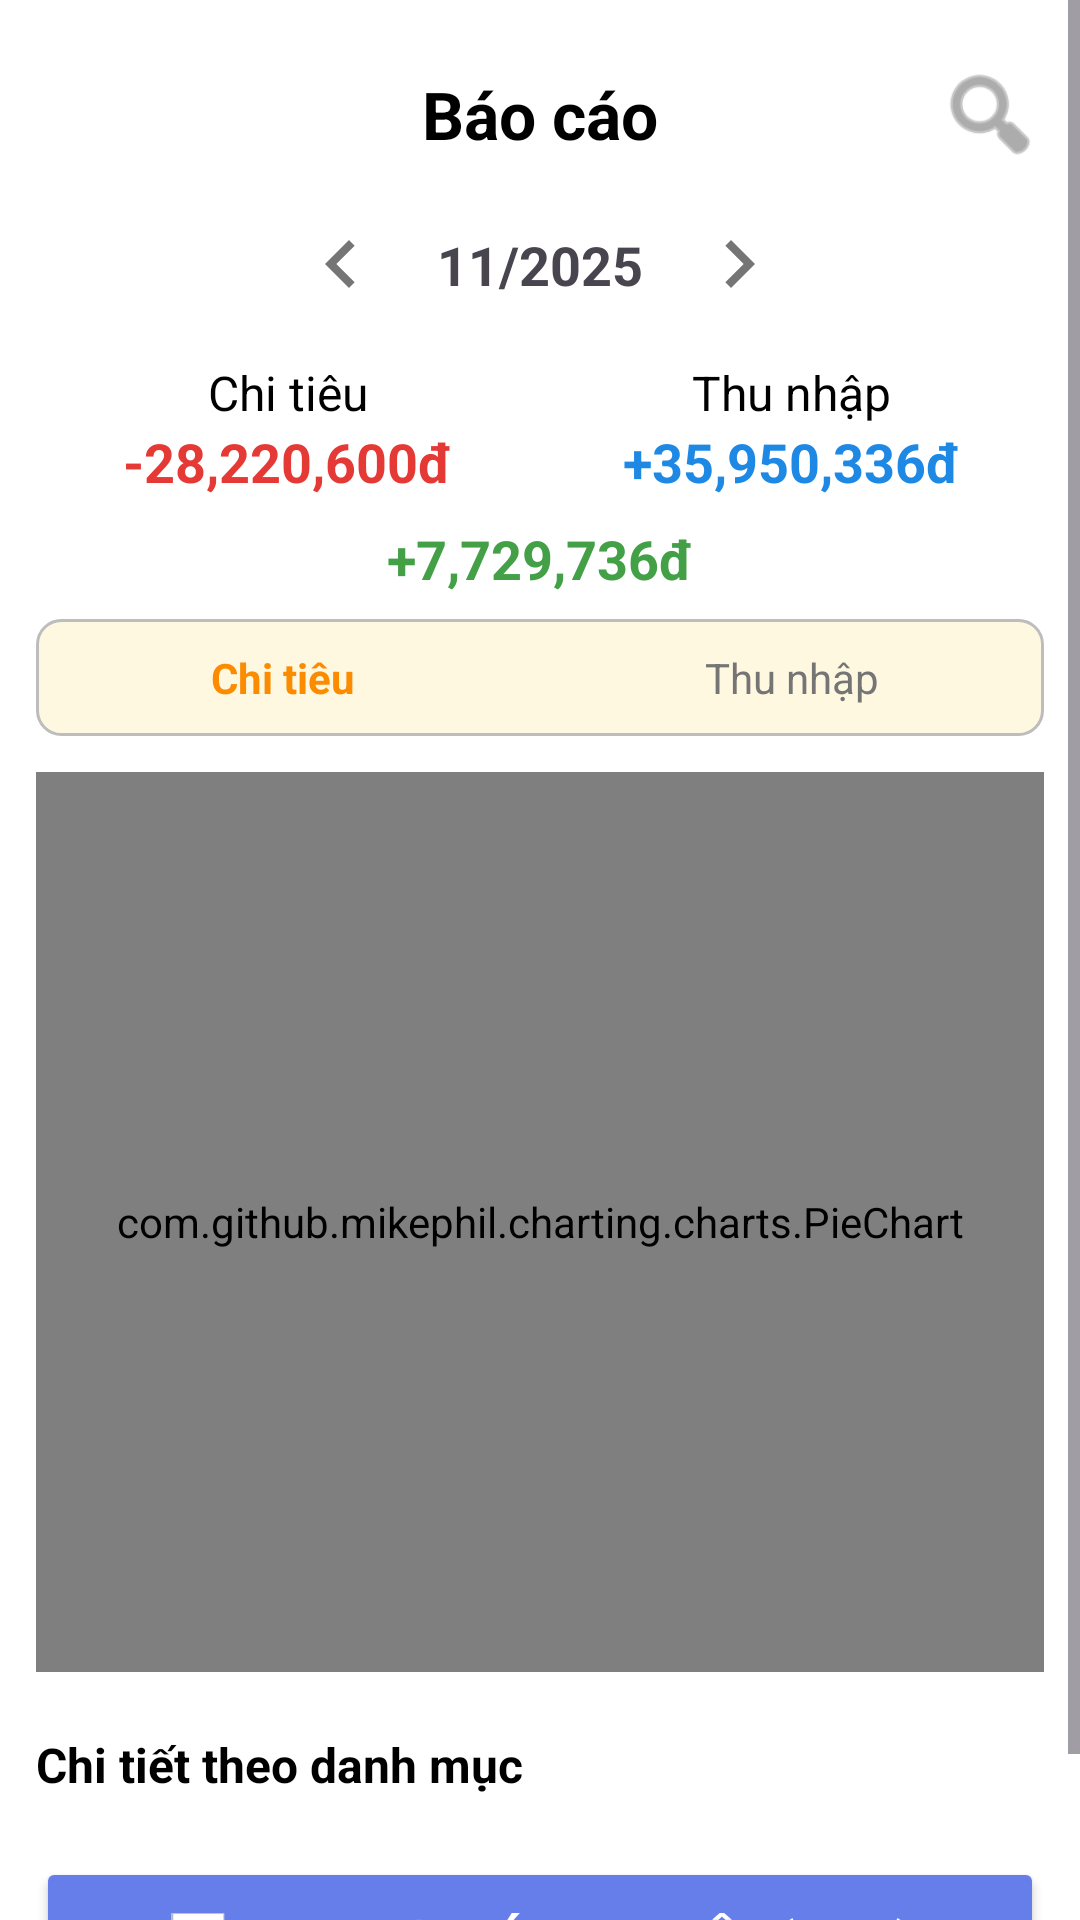

Locate icon controls on the screen. Image size 1080*1920, boxes as (left=x1, top=y1, right=x2, bottom=y2).
arrow left: (left=325, top=240, right=355, bottom=288)
arrow right: (left=725, top=240, right=755, bottom=288)
search: (left=950, top=75, right=1030, bottom=154)
